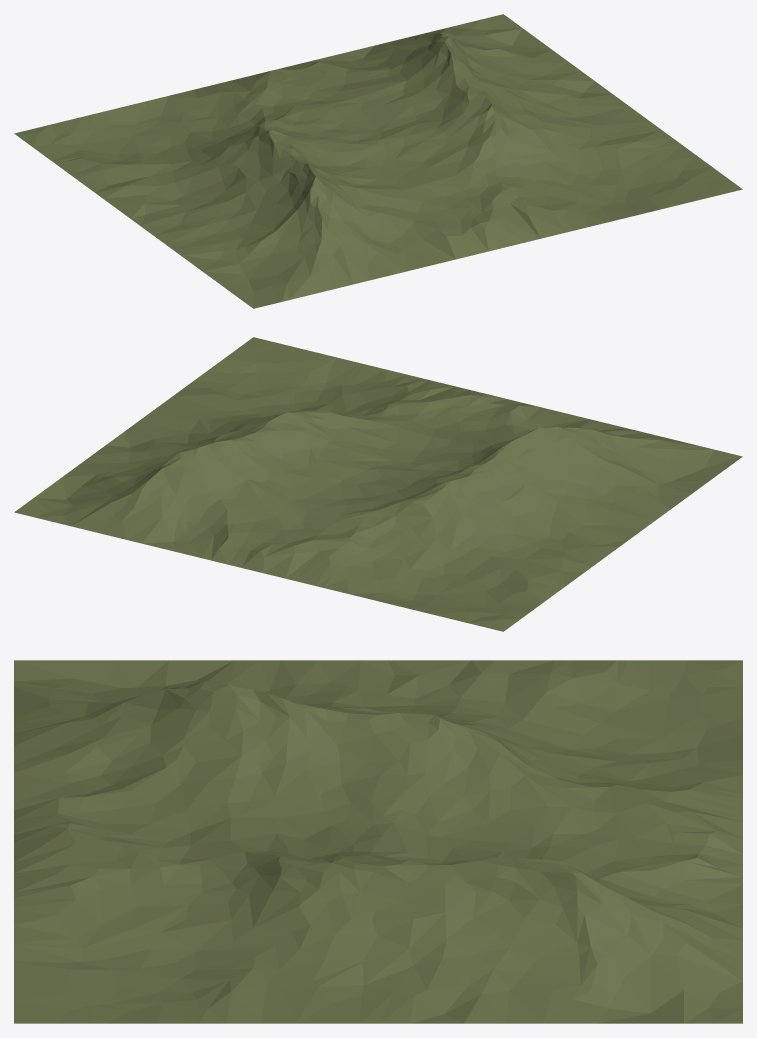
File: SM_Envr_Nature_Terrain_Ground_Mound_03.fbx
3 views of the same model, one above another, from view 1: azimuth 30°, elevation 25°; view 2: azimuth 150°, elevation 25°; view 3: azimuth 270°, elevation 25° (orthographic). The views are drawn at different scales.
Parts seen in each view (by area): view 1: SM_Envr_Nature_Terrain_Ground_Mound_03; view 2: SM_Envr_Nature_Terrain_Ground_Mound_03; view 3: SM_Envr_Nature_Terrain_Ground_Mound_03.
Boxes of the visible parts, x1,y1,x2,y2 form: SM_Envr_Nature_Terrain_Ground_Mound_03: (14, 14, 742, 308); SM_Envr_Nature_Terrain_Ground_Mound_03: (14, 337, 742, 631); SM_Envr_Nature_Terrain_Ground_Mound_03: (14, 660, 742, 1023).
Size of the model in its own units: 1849 by 198 by 1567.
